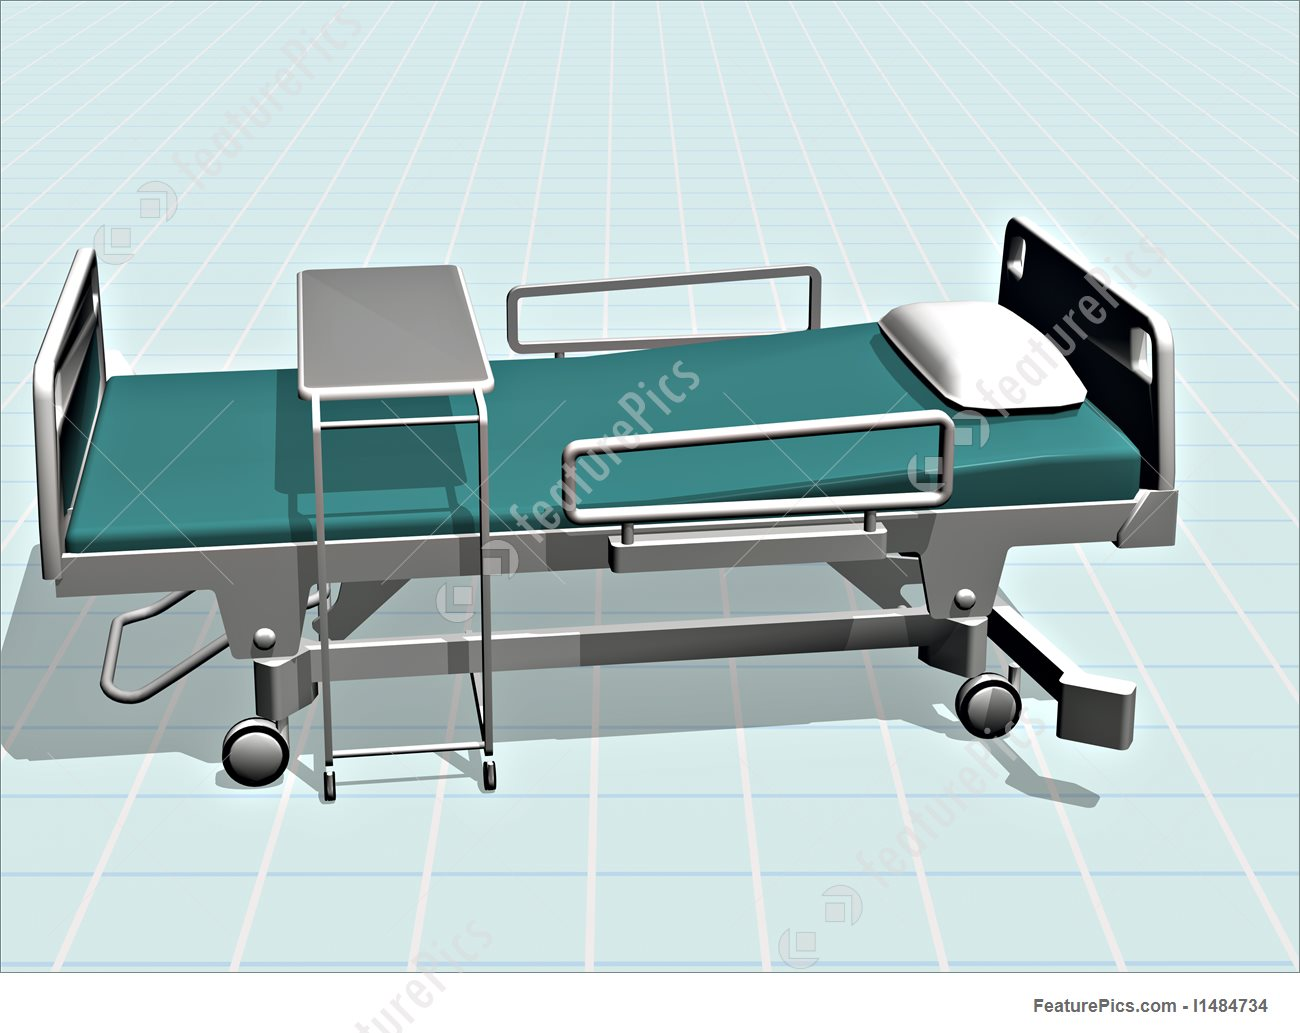trolley_bed: (27, 213, 1181, 801)
